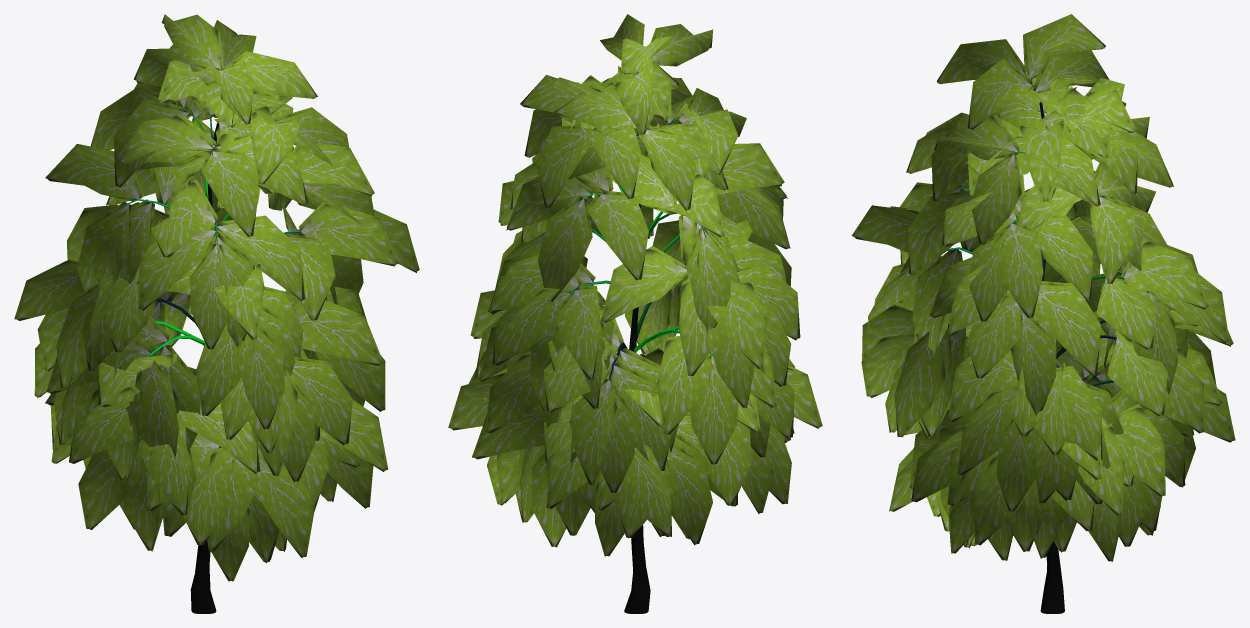
The model's file is BirchTree01.fbx.
3 renders of one model, left to right at view 1: azimuth 30°, elevation 25°; view 2: azimuth 150°, elevation 25°; view 3: azimuth 270°, elevation 25°, orthographic. The views are drawn at different scales.
Visible parts, largest first — view 1: Tree_1, Tree_0; view 2: Tree_1, Tree_0; view 3: Tree_1, Tree_0.
Part boxes in pixels (x1=…): Tree_1: x1=14, y1=14, x2=419, y2=581; Tree_0: x1=122, y1=70, x2=300, y2=613; Tree_1: x1=448, y1=14, x2=822, y2=556; Tree_0: x1=570, y1=73, x2=713, y2=613; Tree_1: x1=851, y1=14, x2=1235, y2=561; Tree_0: x1=947, y1=72, x2=1130, y2=613.
Bounding box in the file's own units: 70.14 × 117 × 70.26.
